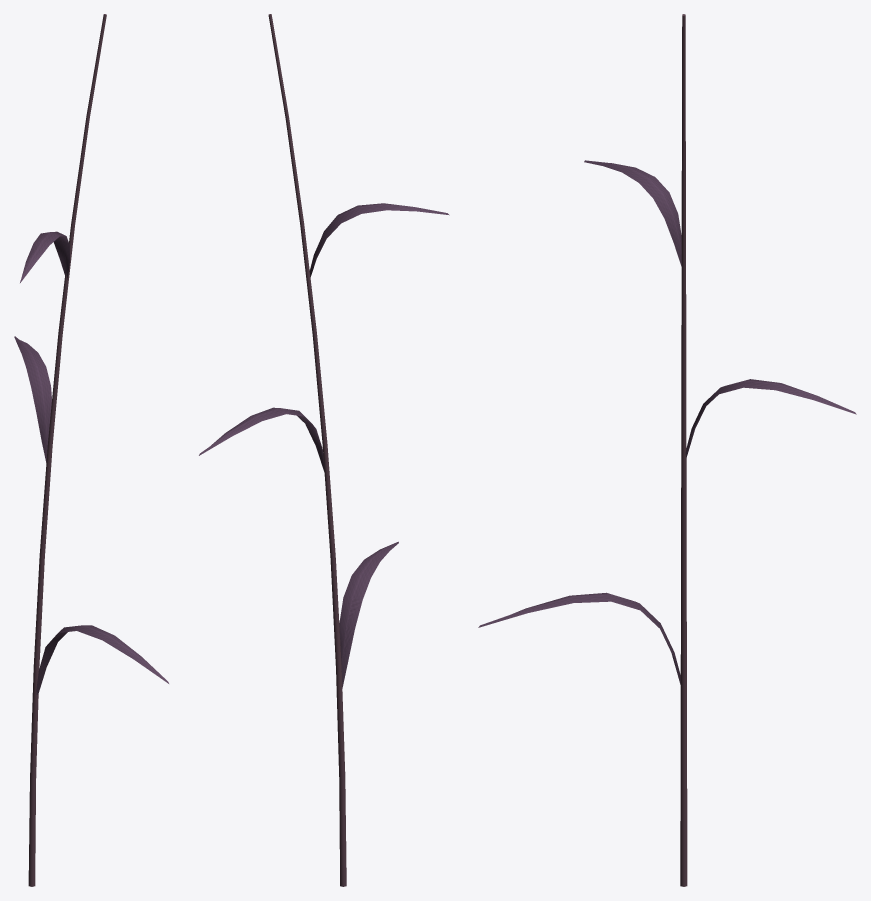
The model's file is single_stem_06.glb.
3 views of the same model, side by side, from view 1: azimuth 30°, elevation 25°; view 2: azimuth 150°, elevation 25°; view 3: azimuth 270°, elevation 25° (orthographic). The views are drawn at different scales.
Visible parts, largest first — view 1: export; view 2: export; view 3: export.
Part boxes in pixels (box(x1,y1,x2,y2)): export: box(14, 14, 168, 886); export: box(199, 14, 449, 886); export: box(478, 14, 856, 886).
Bounding box in the file's own units: 0.1645 × 1 × 0.378.
Materials: 2 (2 with a texture image).
